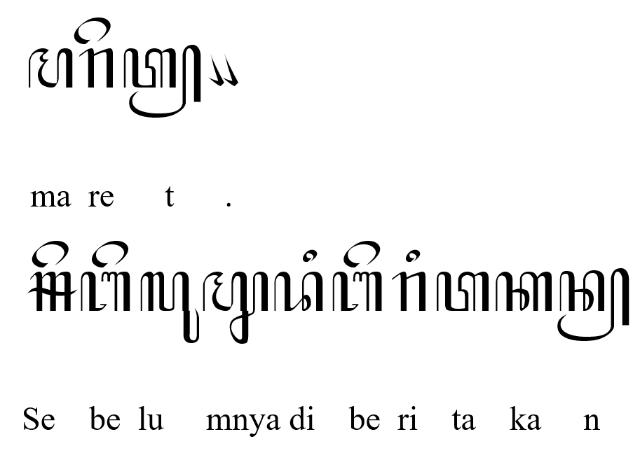-n: (556, 266, 630, 342)
-t: (122, 43, 202, 119)
S: (28, 271, 78, 311)
b: (80, 271, 132, 313), (332, 270, 382, 312)
d: (272, 270, 324, 312)
e: (342, 238, 380, 268), (31, 239, 70, 268), (92, 240, 128, 268)
i: (74, 17, 112, 46), (302, 250, 318, 264), (405, 250, 421, 264)
k: (495, 270, 553, 312)
kom: (221, 53, 239, 87), (208, 54, 225, 88)
lu: (140, 270, 200, 344)
m: (28, 47, 72, 89)
mny: (203, 270, 269, 346)
r: (78, 47, 116, 89), (392, 272, 426, 312)
t: (436, 270, 488, 312)
